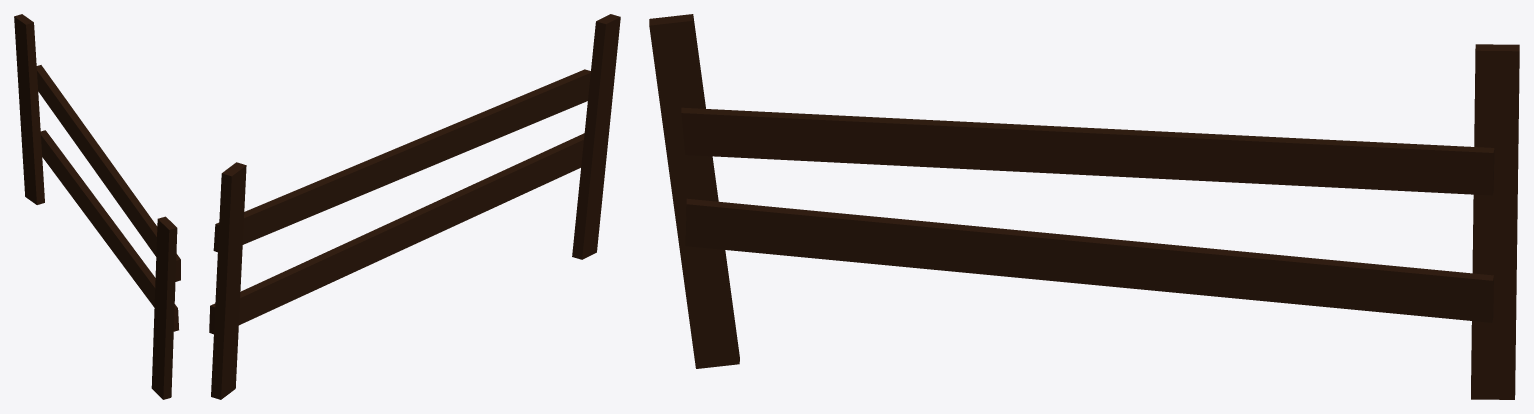
The model's file is ShortFence.fbx.
The picture shows the model from 3 angles, left to right: view 1: azimuth 30°, elevation 25°; view 2: azimuth 150°, elevation 25°; view 3: azimuth 270°, elevation 25°; orthographic projection. The views are drawn at different scales.
Parts seen in each view (by area): view 1: FenceShort; view 2: FenceShort; view 3: FenceShort.
Boxes of the visible parts, bbox=[...] form: FenceShort: bbox=[14, 14, 180, 399]; FenceShort: bbox=[209, 14, 620, 399]; FenceShort: bbox=[649, 14, 1519, 399].
Bounding box in the file's own units: 63.47 × 121 × 248.
